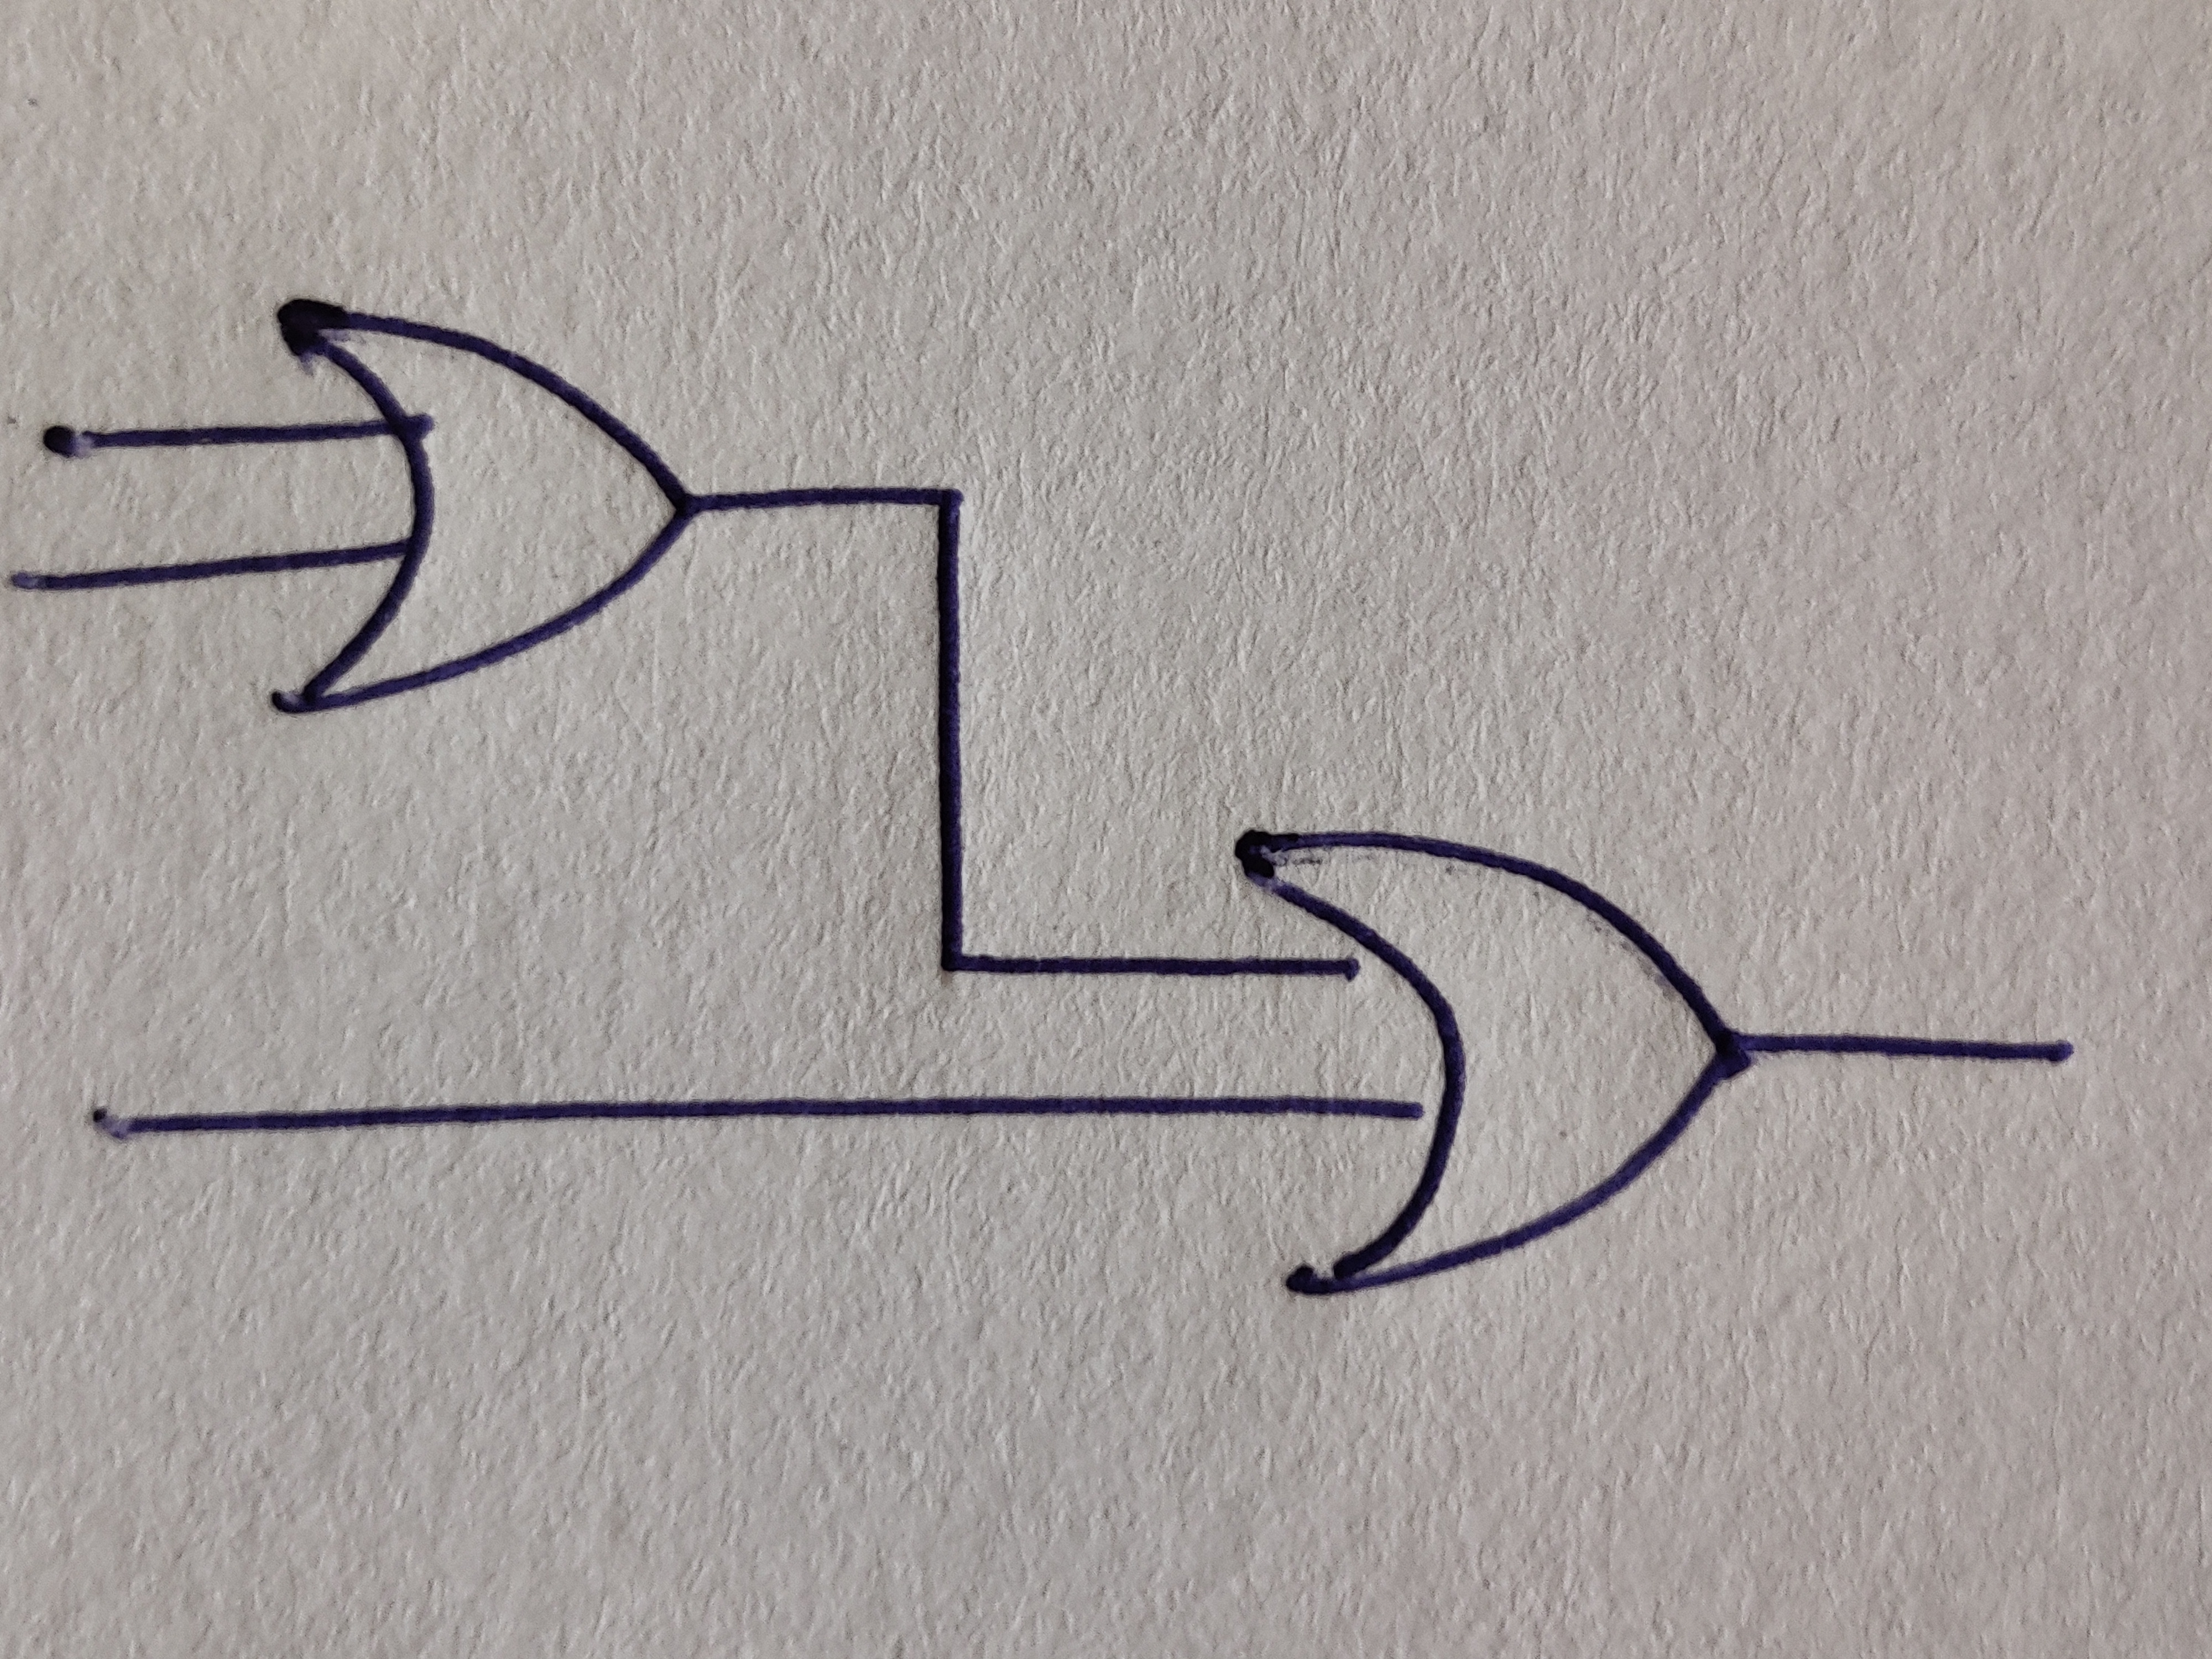or: (1233, 828, 1752, 1298), (275, 298, 695, 714)
